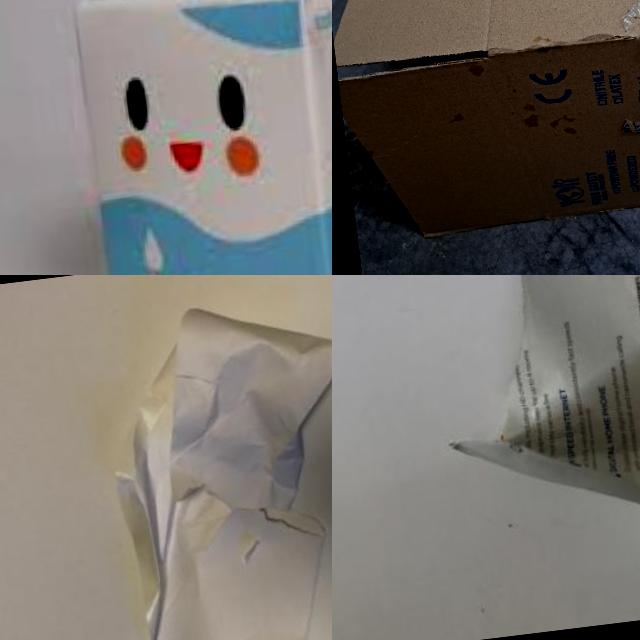caixinha: (43, 0, 332, 275)
papel: (95, 289, 332, 640), (414, 275, 640, 556)
papelão: (332, 0, 640, 241)
